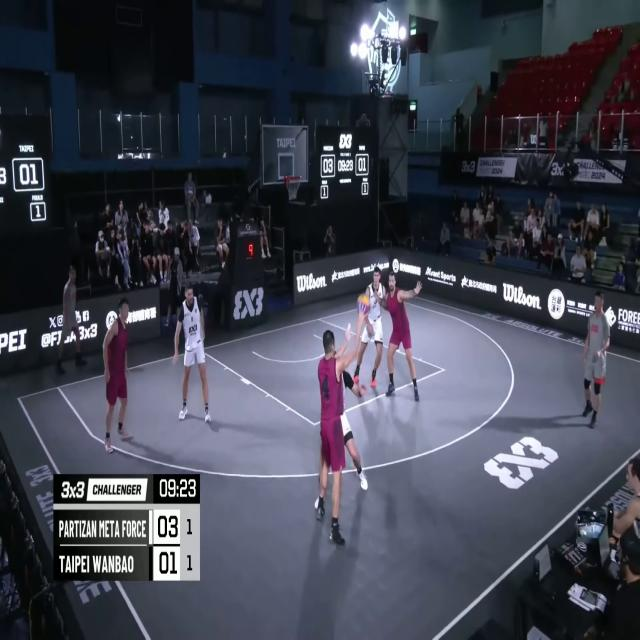ball: (356, 289, 371, 318)
hoop: (282, 174, 303, 202)
player: (313, 288, 370, 548), (307, 319, 367, 511), (380, 270, 421, 402), (173, 285, 212, 423), (103, 296, 132, 452), (356, 267, 386, 392)
